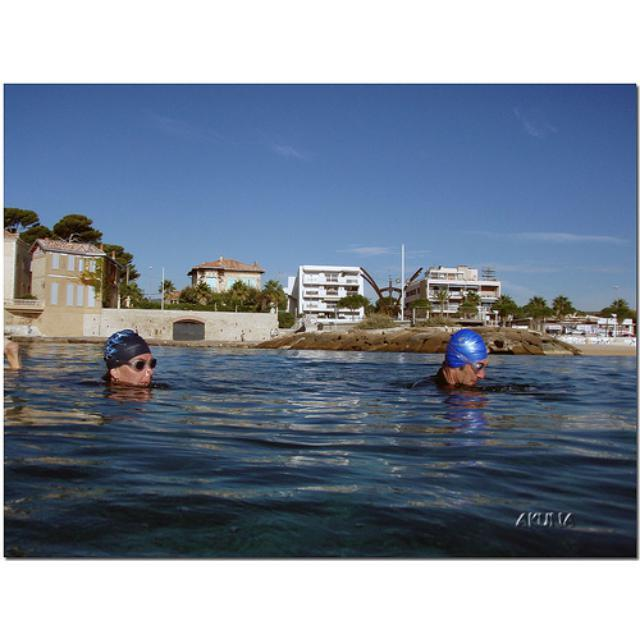human: (98, 327, 167, 392), (440, 329, 491, 395)
